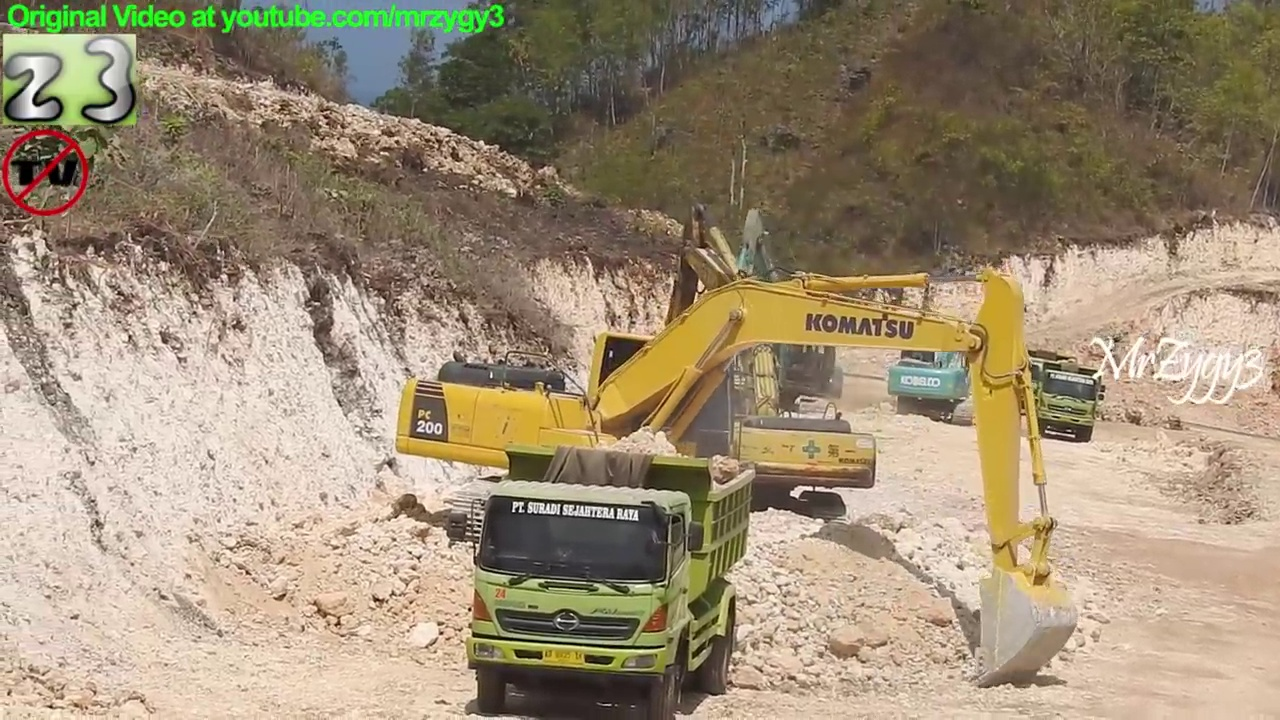excavator: (391, 265, 1082, 693), (647, 200, 882, 527), (713, 206, 848, 428), (888, 293, 995, 427)
truck: (446, 443, 756, 720), (1033, 361, 1110, 447), (1007, 347, 1085, 424)
